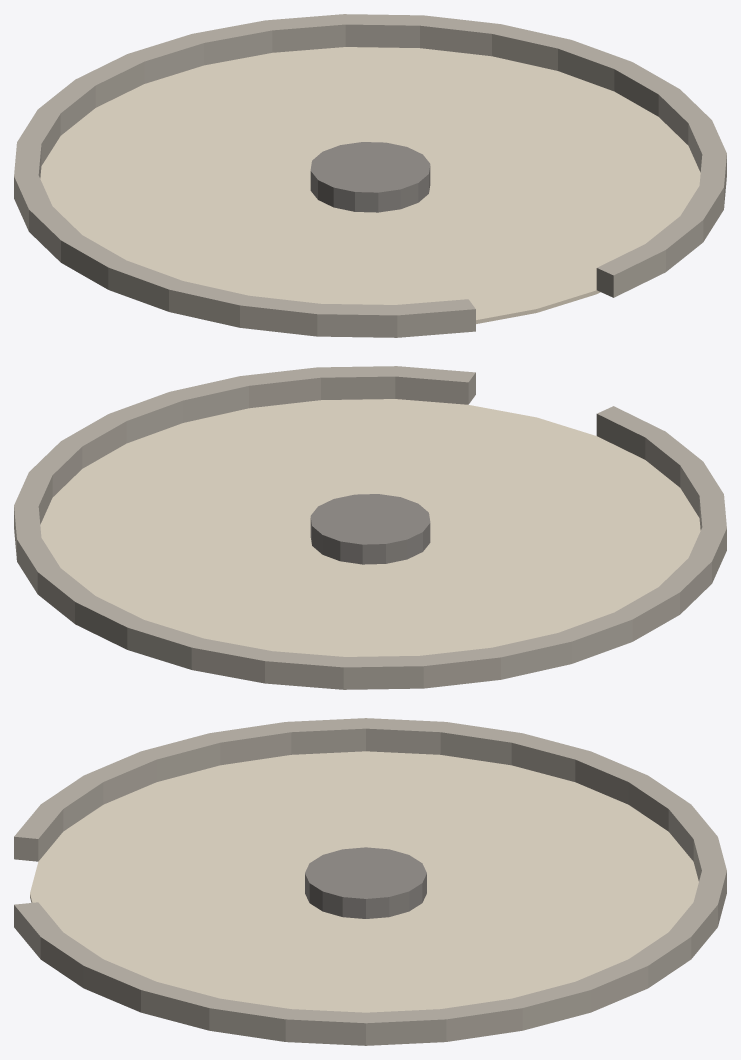
The model's file is ceremonial-infrastructure.glb.
3 views of the same model, one above another, from view 1: azimuth 30°, elevation 25°; view 2: azimuth 150°, elevation 25°; view 3: azimuth 270°, elevation 25° (orthographic).
Visible parts, largest first — view 1: dirt, river stone, dark stone; view 2: dirt, river stone, dark stone; view 3: dirt, river stone, dark stone.
Boxes of the visible parts, box(x1,y1,x2,y2) form: dirt: box(40, 47, 700, 323); river stone: box(14, 14, 726, 337); dark stone: box(310, 142, 430, 212); dirt: box(40, 399, 700, 656); river stone: box(14, 366, 726, 689); dark stone: box(310, 494, 430, 564); dirt: box(30, 751, 698, 1012); river stone: box(14, 718, 726, 1045); dark stone: box(305, 847, 426, 918).
Size of the model in its own units: 13 by 0.53 by 12.84.
